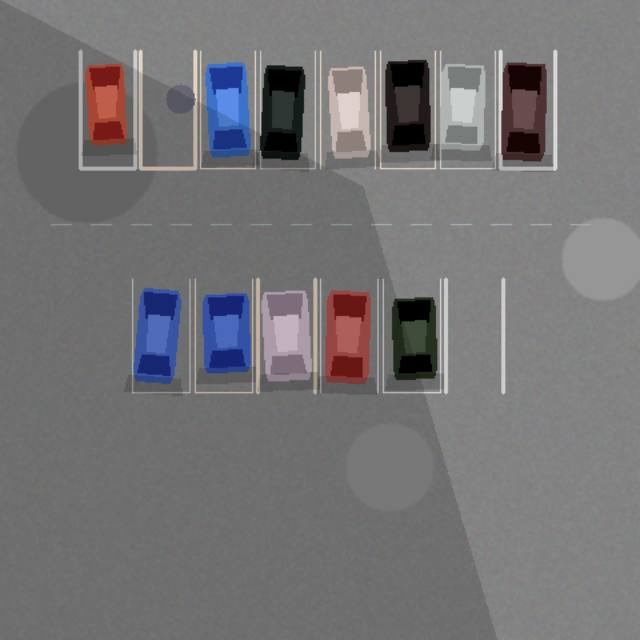space-empty: (445, 279, 503, 392), (140, 51, 195, 168)
space-occupied: (257, 279, 315, 392), (132, 279, 189, 392), (195, 279, 252, 392), (320, 279, 377, 392), (383, 279, 440, 392), (80, 51, 135, 168), (200, 51, 255, 168), (260, 51, 315, 168), (320, 51, 375, 168), (380, 51, 435, 168), (440, 51, 495, 168), (500, 51, 555, 168)
